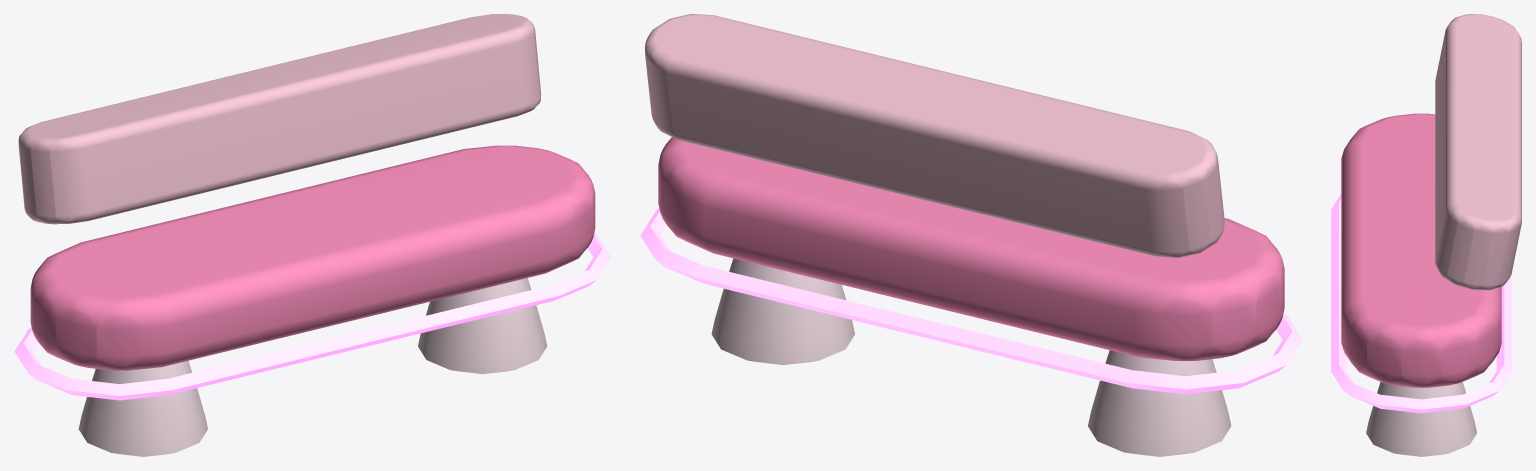
File: bench_bubble.glb
The picture shows the model from 3 angles, left to right: view 1: azimuth 30°, elevation 25°; view 2: azimuth 150°, elevation 25°; view 3: azimuth 270°, elevation 25°; orthographic projection. The views are drawn at different scales.
Parts seen in each view (by area): view 1: bench_bubble; view 2: bench_bubble; view 3: bench_bubble.
Boxes of the visible parts, x1,y1,x2,y2 form: bench_bubble: (14,14,611,456); bench_bubble: (640,14,1302,456); bench_bubble: (1331,14,1521,456).
Bounding box in the file's own units: 2.18 × 1.09 × 0.7375.
